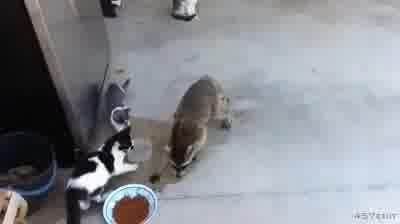raccoon: (166, 75, 234, 179)
